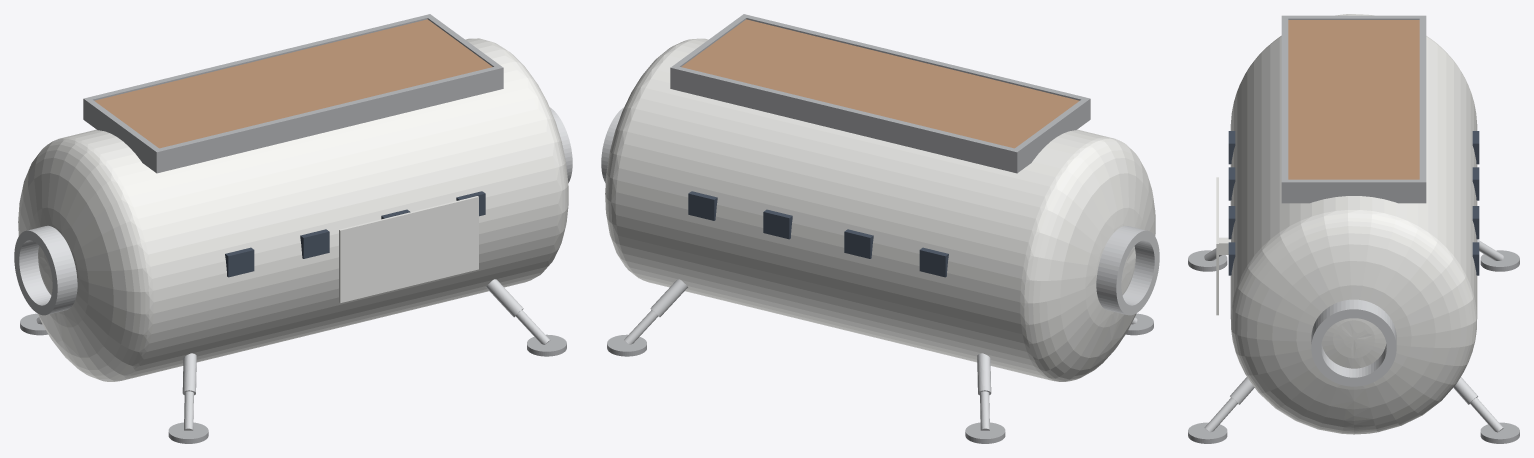
The model's file is rover10_surface_hab_stowed.glb.
The picture shows the model from 3 angles, left to right: view 1: azimuth 30°, elevation 25°; view 2: azimuth 150°, elevation 25°; view 3: azimuth 270°, elevation 25°; orthographic projection.
Visible parts, largest first — view 1: hull, regolith_fill, shield_tray, radiator, hatch_collars, leveling_legs, windows, foot_pads; view 2: hull, regolith_fill, shield_tray, hatch_collars, windows, leveling_legs, foot_pads; view 3: hull, regolith_fill, shield_tray, hatch_collars, foot_pads, leveling_legs, windows, radiator.
Part boxes in pixels (bbox=[...]): hull: bbox=[18, 38, 568, 381]; regolith_fill: bbox=[94, 19, 492, 148]; shield_tray: bbox=[83, 14, 503, 173]; radiator: bbox=[339, 196, 478, 303]; hatch_collars: bbox=[14, 107, 572, 315]; leveling_legs: bbox=[36, 279, 549, 430]; windows: bbox=[225, 191, 485, 277]; foot_pads: bbox=[20, 313, 566, 443]; hull: bbox=[605, 38, 1155, 381]; regolith_fill: bbox=[681, 19, 1079, 148]; shield_tray: bbox=[670, 14, 1090, 173]; hatch_collars: bbox=[601, 107, 1159, 315]; windows: bbox=[688, 191, 948, 277]; leveling_legs: bbox=[624, 279, 1137, 430]; foot_pads: bbox=[607, 313, 1153, 443]; hull: bbox=[1230, 14, 1477, 434]; regolith_fill: bbox=[1288, 20, 1419, 179]; shield_tray: bbox=[1281, 15, 1426, 203]; hatch_collars: bbox=[1311, 299, 1396, 386]; foot_pads: bbox=[1188, 250, 1519, 443]; leveling_legs: bbox=[1204, 239, 1503, 432]; windows: bbox=[1228, 131, 1479, 275]; radiator: bbox=[1216, 177, 1230, 315].
Size of the model in its own units: 8.91 by 4.21 by 5.05.
